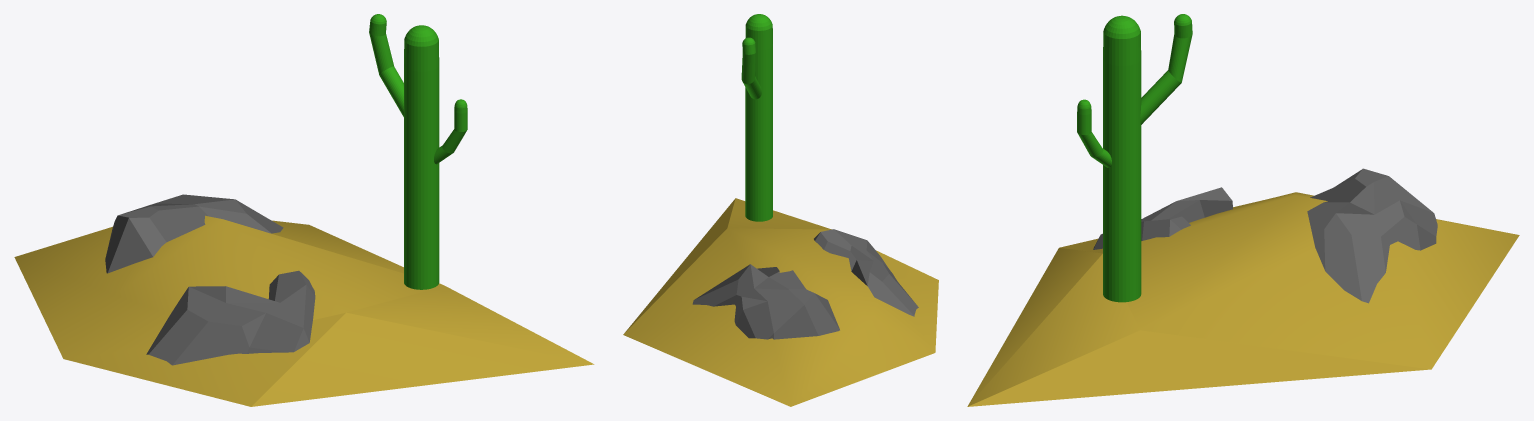
Rendered from desert_ob_03.fbx.
The picture shows the model from 3 angles, left to right: view 1: azimuth 30°, elevation 25°; view 2: azimuth 150°, elevation 25°; view 3: azimuth 270°, elevation 25°; orthographic projection. The views are drawn at different scales.
Visible parts, largest first — view 1: Icosphere, Cylinder, Cube, Cube.001; view 2: Icosphere, Cube.001, Cylinder, Cube; view 3: Icosphere, Cylinder, Cube.001, Cube.
Boxes of the visible parts, x1,y1,x2,y2 form: Icosphere: (14,215,594,406); Cylinder: (369,14,467,289); Cube: (146,270,315,365); Cube.001: (105,194,283,273); Icosphere: (623,198,938,406); Cube.001: (692,264,839,339); Cylinder: (741,14,772,221); Cube: (814,229,918,316); Icosphere: (967,192,1519,406); Cylinder: (1077,14,1192,302); Cube.001: (1307,168,1437,303); Cube: (1093,187,1232,249).
Bounding box in the file's own units: 2910 × 2216 × 3272.
